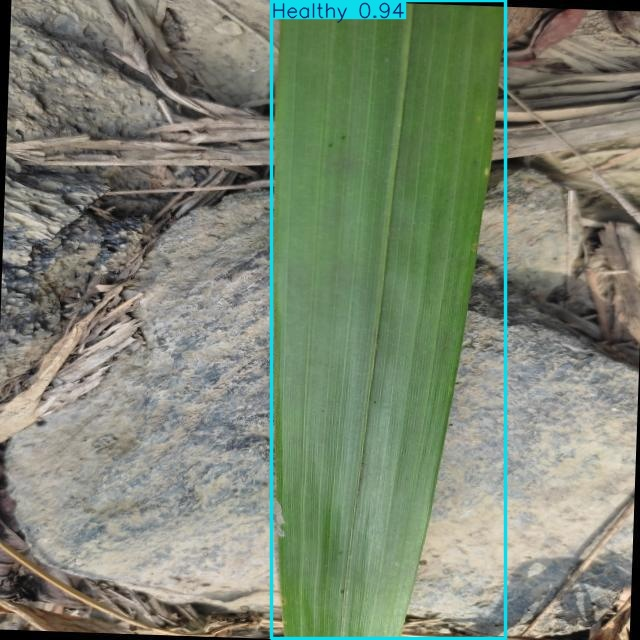Healthy: (272, 1, 505, 639)
